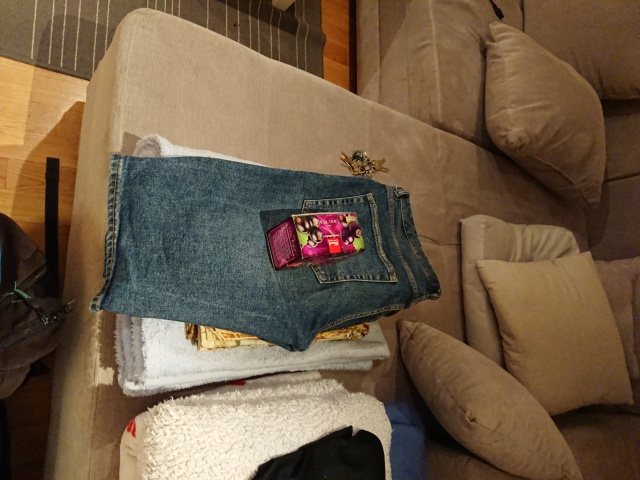Franck Black Currant Tea 60g: (262, 208, 368, 274)
